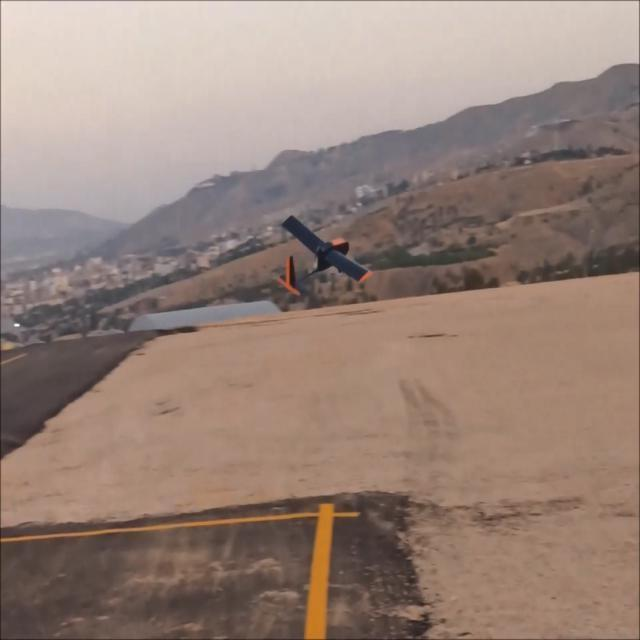Airplane: (263, 212, 374, 300)
